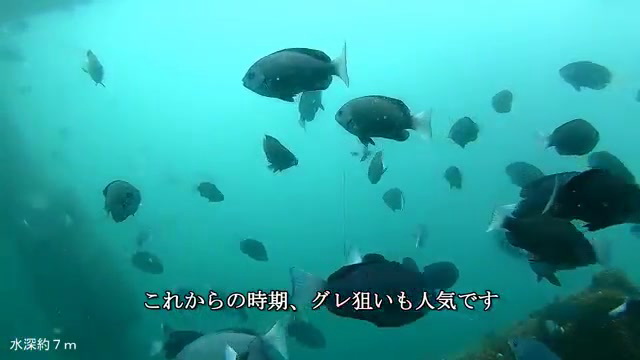gure: (317, 83, 447, 153), (237, 38, 355, 112)
smallfish: (550, 49, 617, 97), (228, 235, 284, 270)
